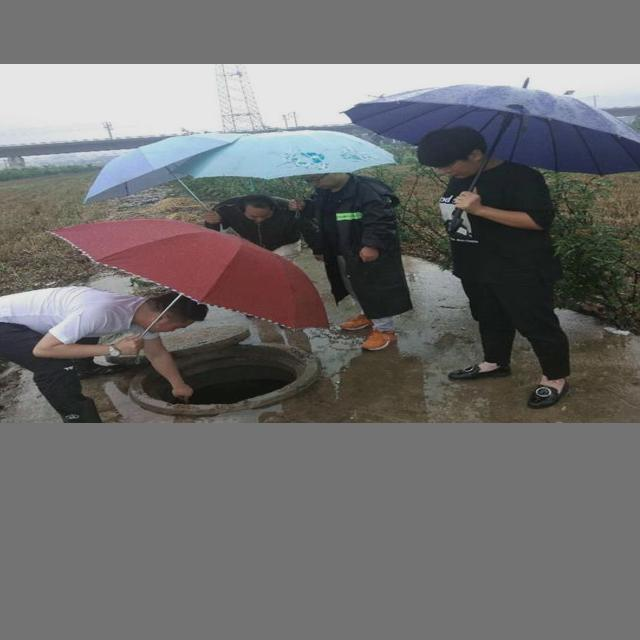uncovered: (91, 312, 339, 415)
